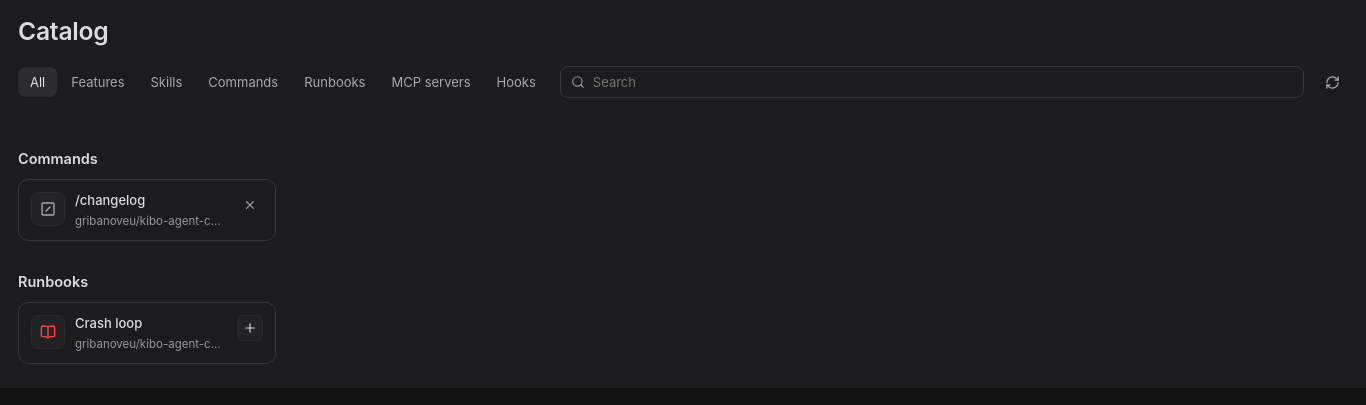
Test: the catalog page › something else in the place is not installed over, and a built-in runbook's name is said
This screenshot has width=1366, height=405.
Click the button "/changelog gribanoveu/kibo-agent-catalog" at {"x": 147, "y": 210}, box 18,179 -> 276,241
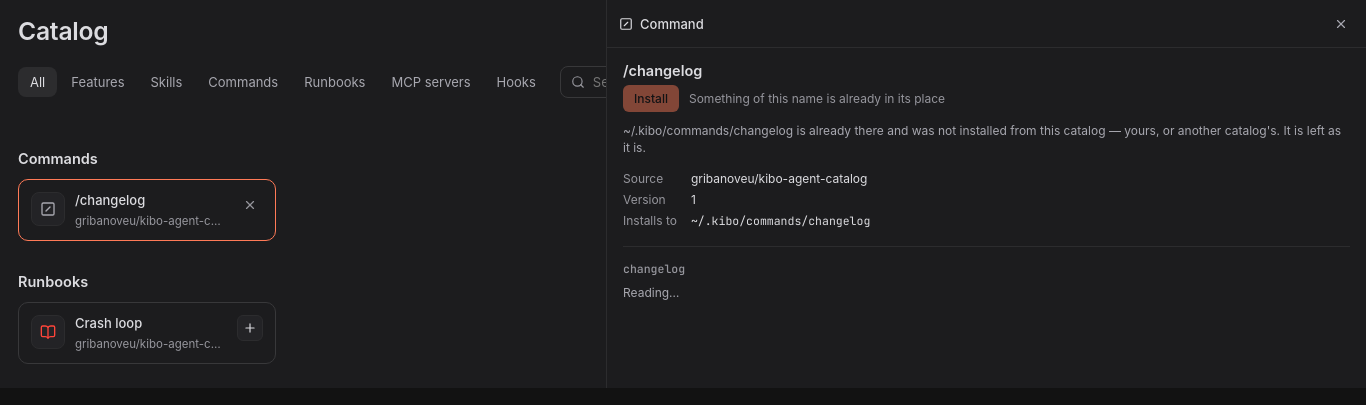
Expected: the button "Install" is disabled, 623,85 -> 679,112
Expected: the text "was not installed from this catalog" is shown, 623,123 -> 1341,155
Click the button "Crash loop" at {"x": 147, "y": 333}, box 18,302 -> 276,364
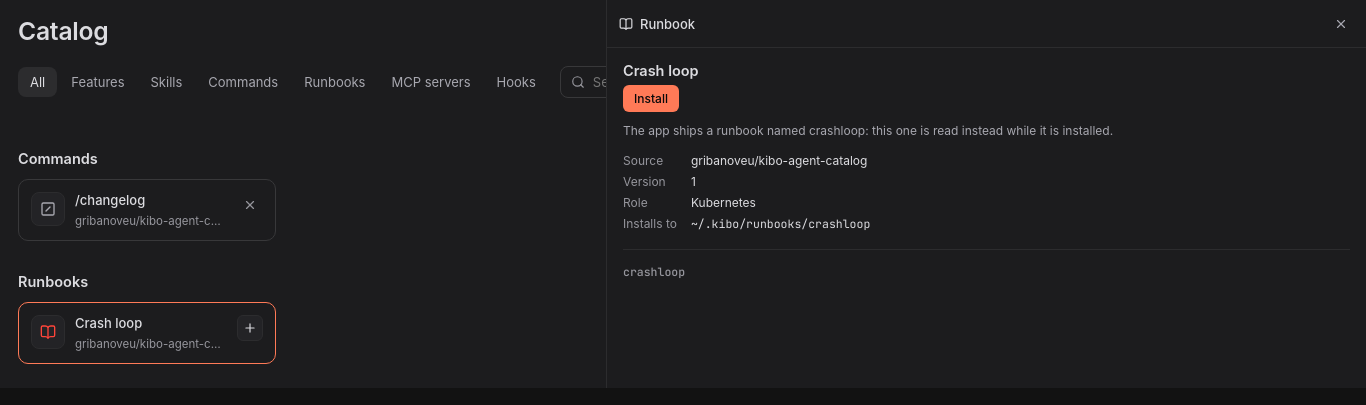
Expected: the text "The app ships a runbook named crashloop" is shown, 623,123 -> 1113,138
